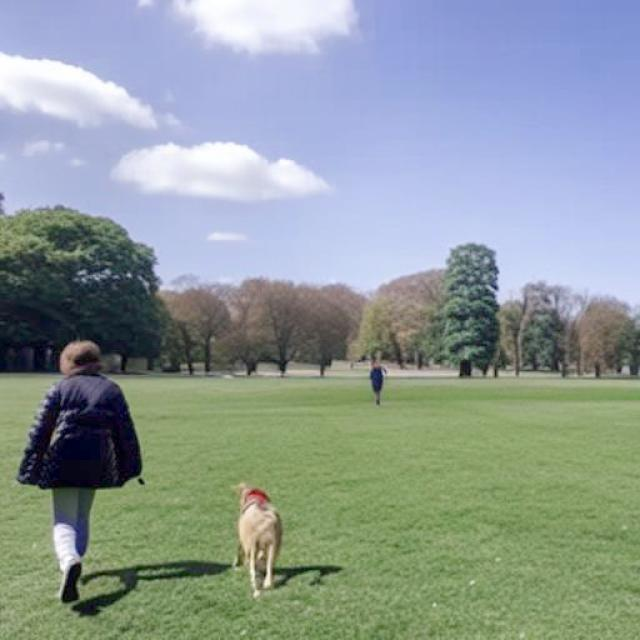Unleashed_Dog: (52, 458, 282, 599)
